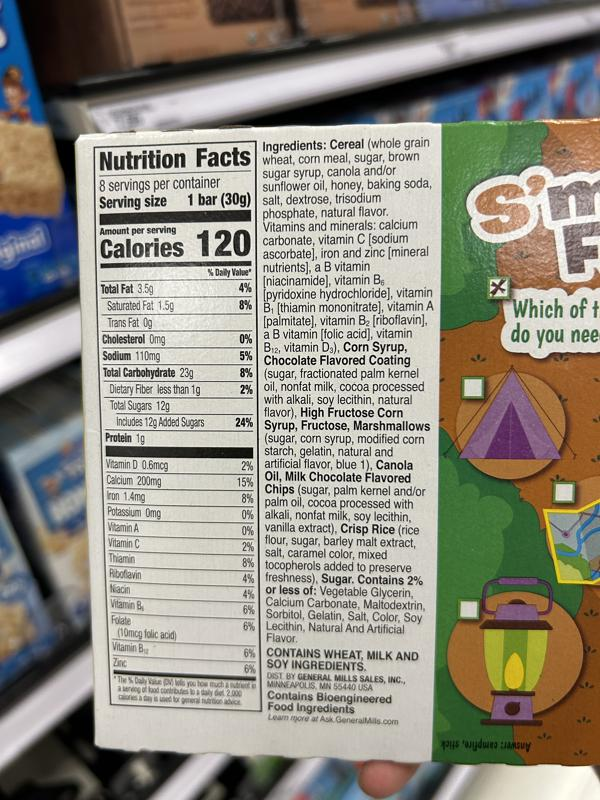ingredients: (261, 135, 431, 646)
